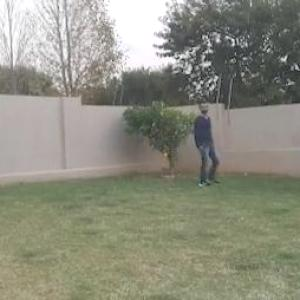follow: (192, 97, 215, 188)
